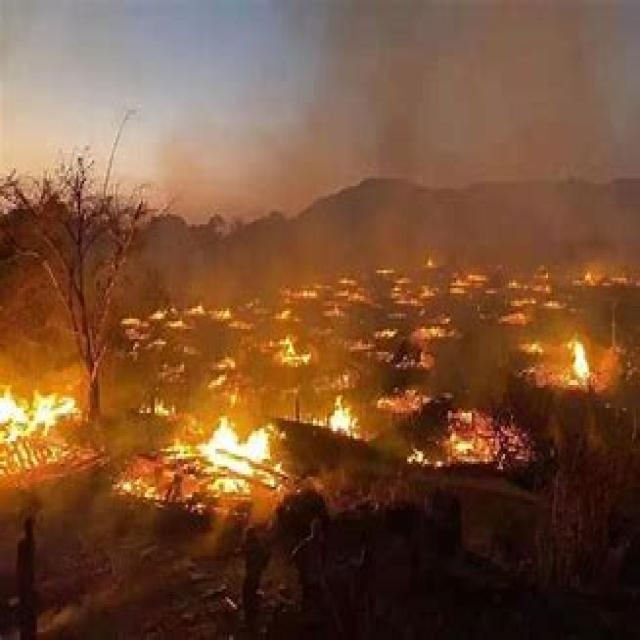fire: (126, 298, 314, 410), (293, 260, 558, 329), (334, 308, 439, 416), (418, 399, 524, 473), (169, 414, 274, 481), (0, 373, 82, 445), (560, 260, 638, 293), (316, 392, 358, 434), (568, 330, 596, 383)
